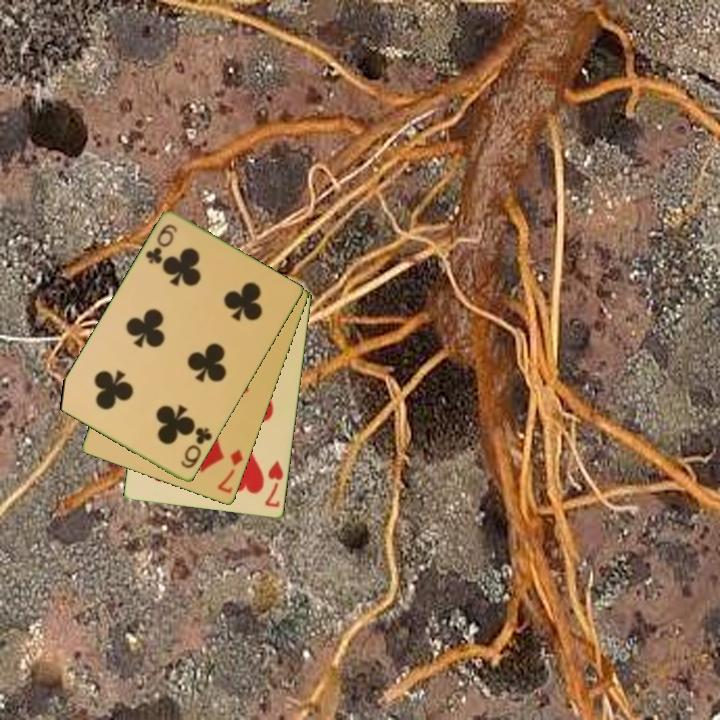6c: (177, 424, 215, 472), (142, 221, 180, 267)
7d: (214, 446, 246, 497)
7h: (261, 457, 286, 511)
